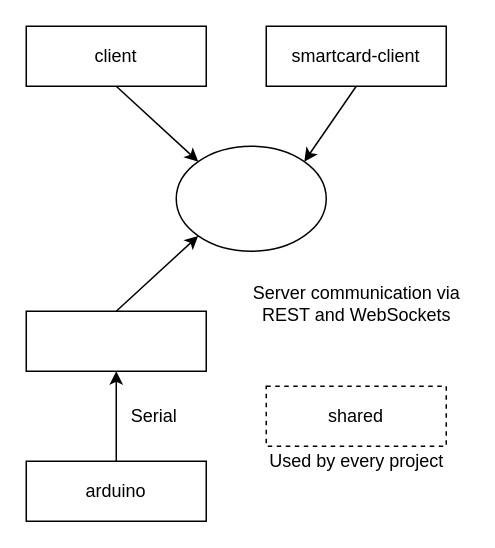
Image size: 495x548. Some labels were removed from this diagram. The box of each missing label's shape, as (x1, y1, x2, y2) in pixels:
arduino-client: (25, 310, 206, 371)
server: (175, 145, 326, 251)
